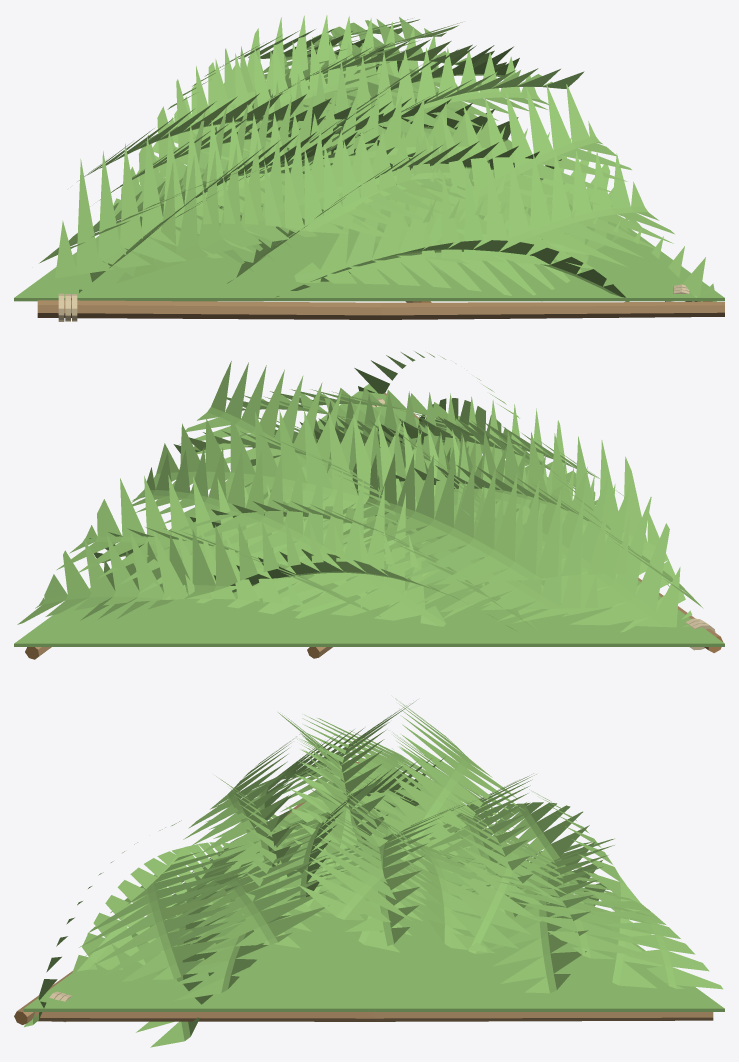
Rendered from architecture.roof.palm.flat.fbx.
3 views of the same model, one above another, from view 1: azimuth 30°, elevation 25°; view 2: azimuth 150°, elevation 25°; view 3: azimuth 270°, elevation 25° (orthographic).
Visible parts, largest first — view 1: ROOFFLAT_leaf_40, ROOFFLAT_leaf_01, ROOFFLAT_leaf_11, ROOFFLAT_rafter, ROOFFLAT_leaf_41, ROOFFLAT_leaf_31, ROOFFLAT_leaf_10, ROOFFLAT_leaf_24, ROOFFLAT_leaf_33, ROOFFLAT_leaf_23, ROOFFLAT_leaf_35, ROOFFLAT_leaf_03 (+41 smaller); view 2: ROOFFLAT_leaf_34, ROOFFLAT_leaf_03, ROOFFLAT_leaf_32, ROOFFLAT_leaf_02, ROOFFLAT_leaf_44, ROOFFLAT_leaf_45, ROOFFLAT_leaf_00, ROOFFLAT_leaf_43, ROOFFLAT_leaf_13, ROOFFLAT_leaf_25, ROOFFLAT_leaf_21, ROOFFLAT_leaf_22 (+38 smaller); view 3: ThatchBacking_00, ROOFFLAT_leaf_40, ROOFFLAT_leaf_03, ThatchBacking_01, ROOFFLAT_edge_beam, ROOFFLAT_leaf_34, ROOFFLAT_leaf_41, ROOFFLAT_leaf_35, ROOFFLAT_leaf_43, ThatchBacking_03, ThatchBacking_02, ROOFFLAT_leaf_20 (+25 smaller).
Boxes of the visible parts, box(x1,y1,x2,y2) form: ROOFFLAT_leaf_40: box(421, 151, 674, 268); ROOFFLAT_leaf_01: box(44, 113, 357, 279); ROOFFLAT_leaf_11: box(116, 129, 465, 283); ROOFFLAT_rafter: box(37, 300, 724, 319); ROOFFLAT_leaf_41: box(375, 83, 631, 269); ROOFFLAT_leaf_31: box(294, 167, 627, 301); ROOFFLAT_leaf_10: box(202, 134, 474, 237); ROOFFLAT_leaf_24: box(113, 41, 417, 215); ROOFFLAT_leaf_33: box(248, 47, 548, 214); ROOFFLAT_leaf_23: box(139, 93, 490, 272); ROOFFLAT_leaf_35: box(194, 15, 457, 164); ROOFFLAT_leaf_03: box(77, 92, 383, 181); ROOFFLAT_leaf_34: box(132, 447, 445, 626); ROOFFLAT_leaf_03: box(343, 453, 629, 584); ROOFFLAT_leaf_32: box(131, 410, 485, 607); ROOFFLAT_leaf_02: box(446, 446, 688, 627); ROOFFLAT_leaf_44: box(56, 475, 366, 618); ROOFFLAT_leaf_45: box(17, 529, 304, 624); ROOFFLAT_leaf_00: box(415, 431, 692, 632); ROOFFLAT_leaf_43: box(179, 361, 421, 567); ROOFFLAT_leaf_13: box(343, 475, 598, 611); ROOFFLAT_leaf_25: box(80, 521, 418, 620); ROOFFLAT_leaf_21: box(314, 391, 576, 570); ROOFFLAT_leaf_22: box(244, 425, 542, 618); ThatchBacking_00: box(23, 998, 724, 1011); ROOFFLAT_leaf_40: box(79, 845, 243, 981); ROOFFLAT_leaf_03: box(371, 698, 524, 876); ThatchBacking_01: box(36, 989, 712, 999); ROOFFLAT_edge_beam: box(35, 1012, 713, 1021); ROOFFLAT_leaf_34: box(447, 798, 585, 953); ROOFFLAT_leaf_41: box(151, 830, 329, 949); ROOFFLAT_leaf_35: box(466, 838, 614, 993); ROOFFLAT_leaf_43: box(298, 807, 458, 922); ThatchBacking_03: box(62, 970, 662, 980); ThatchBacking_02: box(51, 979, 697, 988); ROOFFLAT_leaf_20: box(72, 842, 245, 972).
Size of the model in its own units: 1.3 by 0.4104 by 1.52.
